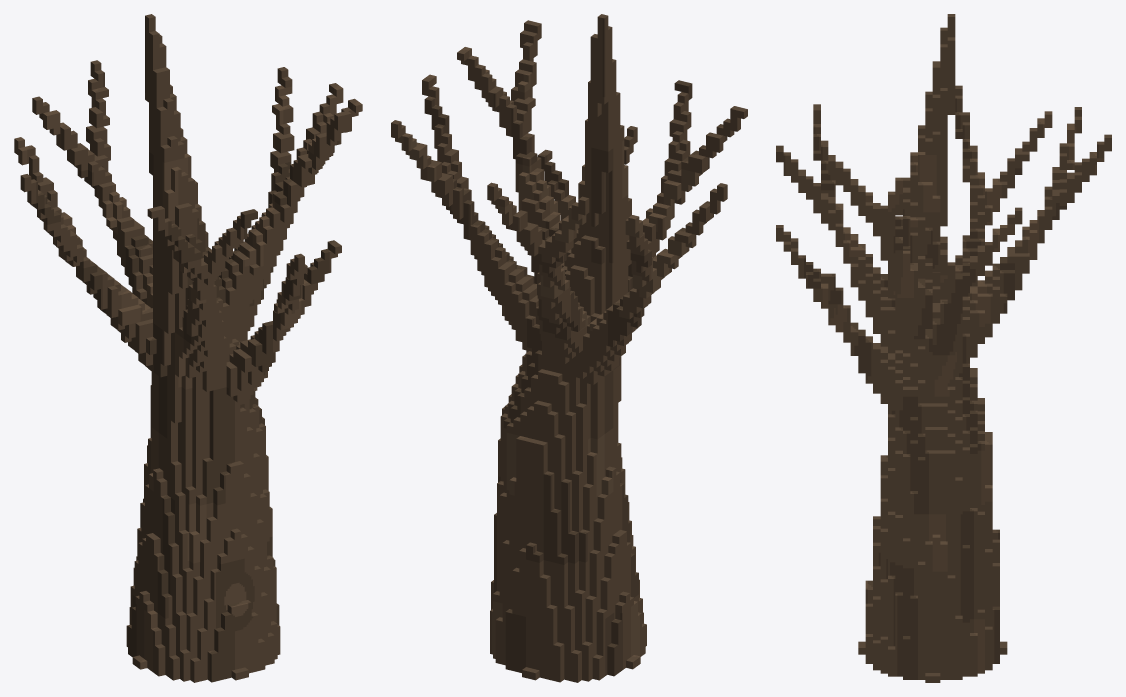
The model's file is oak_ancient_winter_3.glb.
3 renders of one model, left to right at view 1: azimuth 30°, elevation 25°; view 2: azimuth 150°, elevation 25°; view 3: azimuth 270°, elevation 25°, orthographic. The views are drawn at different scales.
Visible parts, largest first — view 1: VoxelVisual; view 2: VoxelVisual; view 3: VoxelVisual.
Boxes of the visible parts, x1=… form: VoxelVisual: x1=14, y1=14, x2=362, y2=682; VoxelVisual: x1=391, y1=14, x2=747, y2=682; VoxelVisual: x1=776, y1=14, x2=1111, y2=682.
Size of what is drawn, in the model's own units: 11.75 by 22.75 by 11.25.
